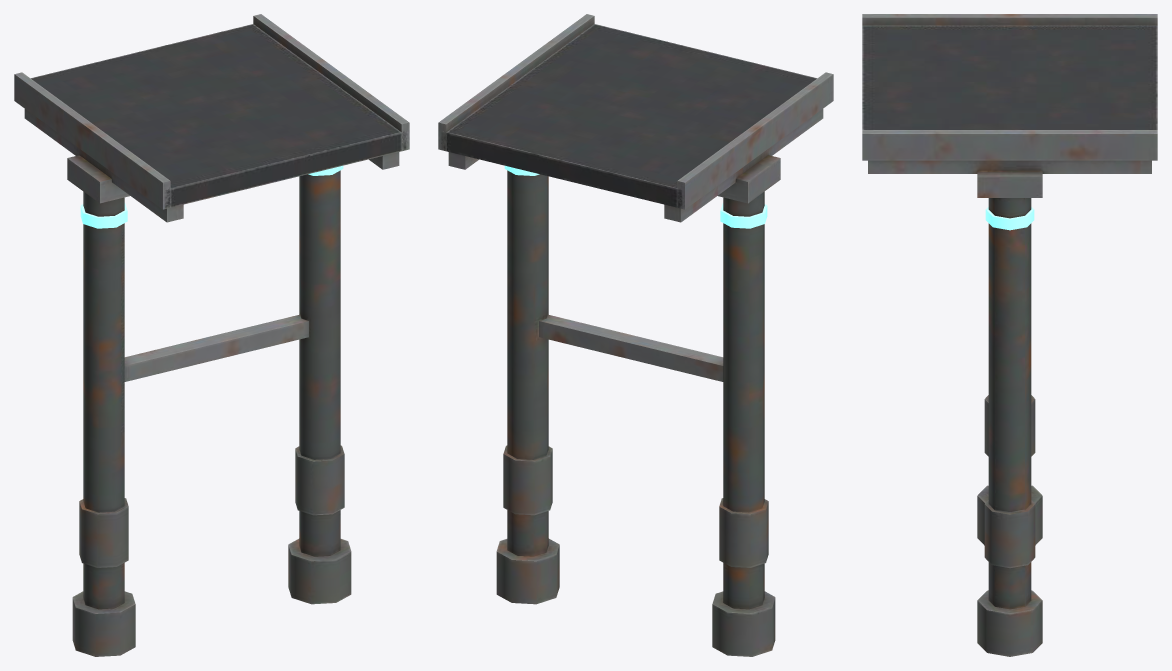
File: ponte_agua.glb
3 views of the same model, side by side, from view 1: azimuth 30°, elevation 25°; view 2: azimuth 150°, elevation 25°; view 3: azimuth 270°, elevation 25° (orthographic).
Parts seen in each view (by area): view 1: ponte_agua_corpo; view 2: ponte_agua_corpo; view 3: ponte_agua_corpo.
Part boxes in pixels (box(x1,y1,x2,y2)): ponte_agua_corpo: box(14, 14, 409, 656); ponte_agua_corpo: box(438, 14, 833, 656); ponte_agua_corpo: box(862, 14, 1157, 656).
Size of the model in its own units: 1.06 by 1.93 by 1.
2 materials, 1 textured.
